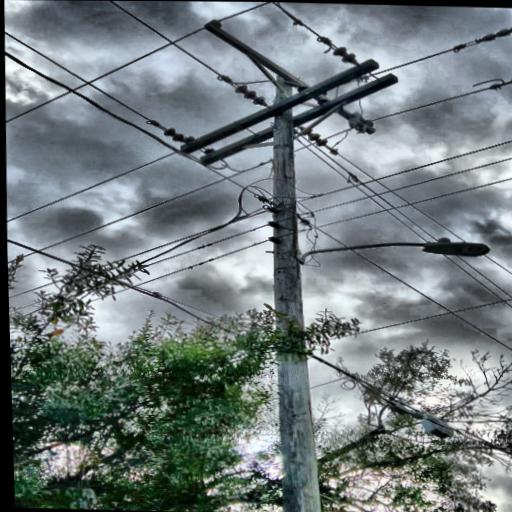pole: (259, 67, 353, 512)
street light: (290, 232, 494, 270)
